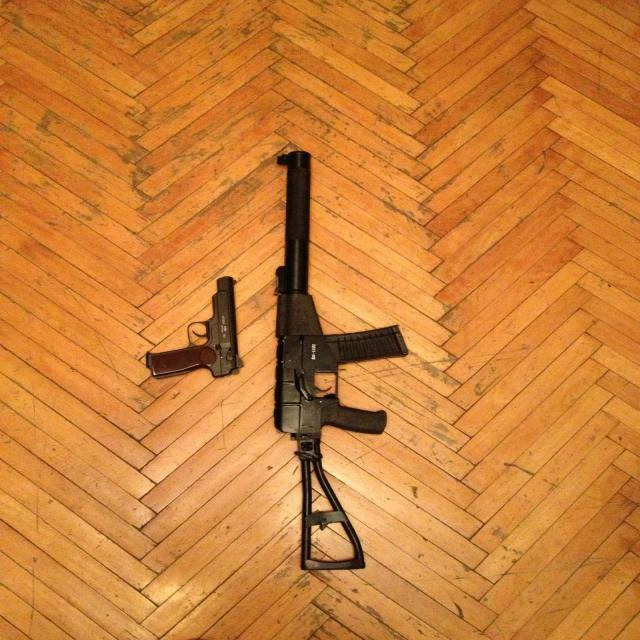firearm: (272, 149, 407, 569)
pistol: (143, 275, 244, 378)
